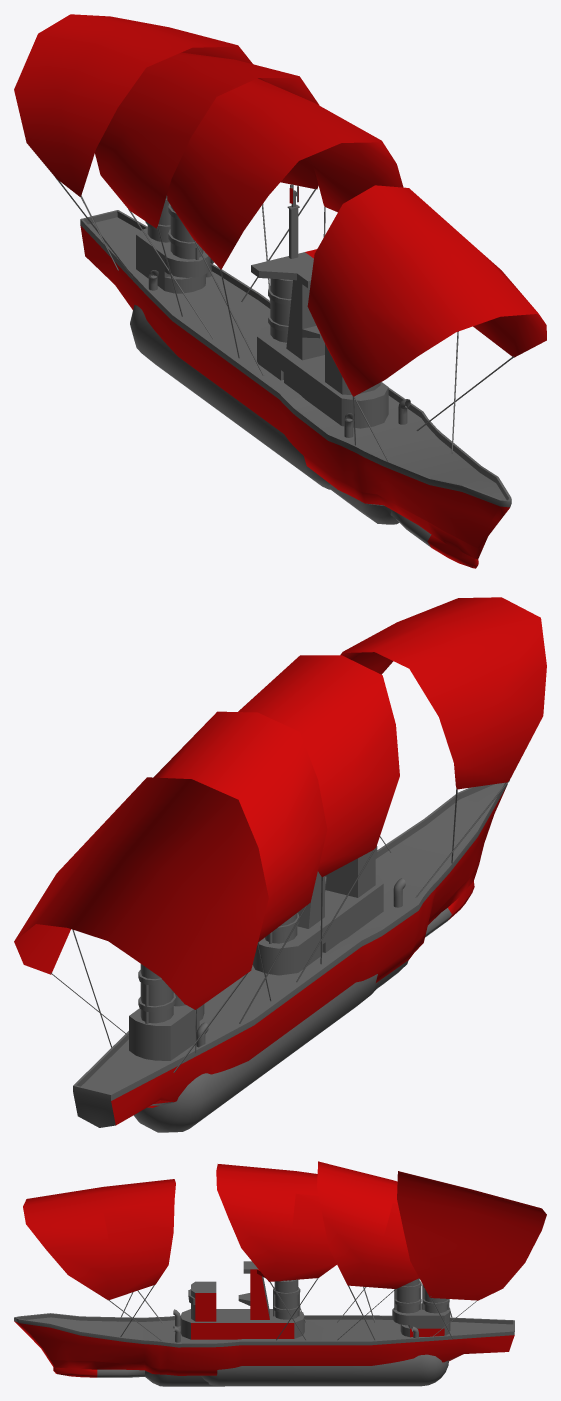
Rendered from navy_ship_3.FBX.
3 views of the same model, one above another, from view 1: azimuth 30°, elevation 25°; view 2: azimuth 150°, elevation 25°; view 3: azimuth 270°, elevation 25° (orthographic). The views are drawn at different scales.
Parts seen in each view (by area): view 1: navy_ship_3; view 2: navy_ship_3; view 3: navy_ship_3.
Boxes of the visible parts, x1=… form: navy_ship_3: x1=14, y1=14, x2=546, y2=568; navy_ship_3: x1=14, y1=597, x2=546, y2=1132; navy_ship_3: x1=14, y1=1161, x2=546, y2=1386.
Size of the model in its own units: 333 by 619 by 1383.
